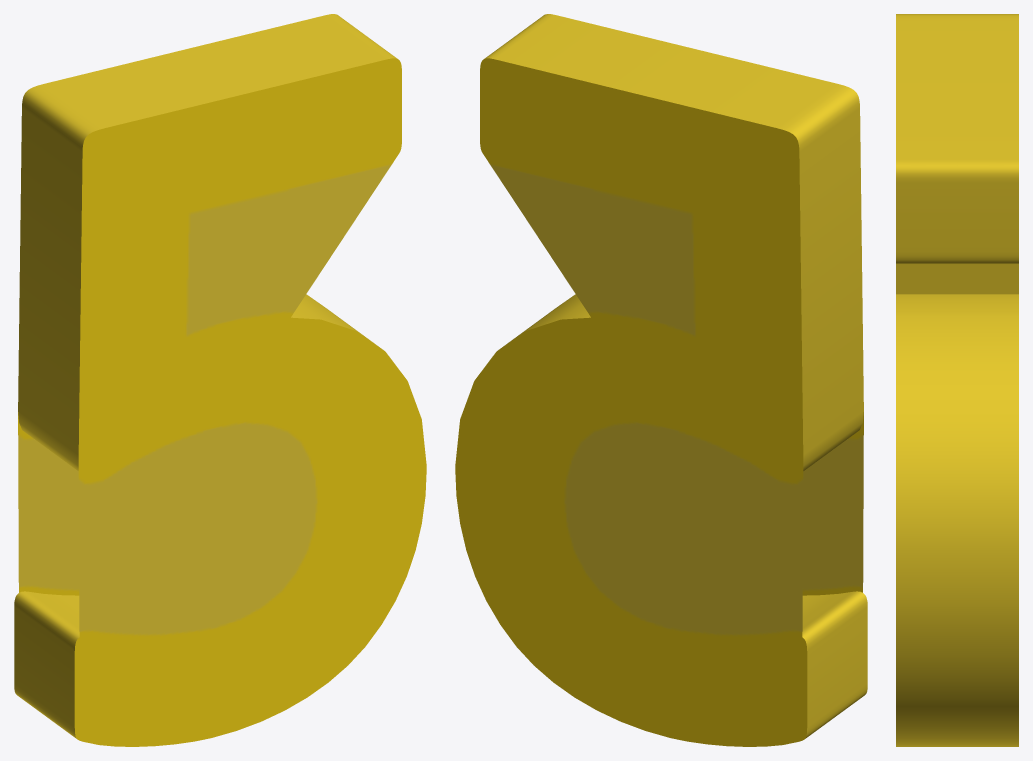
The model's file is number_five.FBX.
3 views of the same model, side by side, from view 1: azimuth 30°, elevation 25°; view 2: azimuth 150°, elevation 25°; view 3: azimuth 270°, elevation 25° (orthographic).
Parts seen in each view (by area): view 1: number_five; view 2: number_five; view 3: number_five.
Boxes of the visible parts, <box> form: number_five: <box>14,14,426,746</box>; number_five: <box>455,14,867,746</box>; number_five: <box>896,14,1018,746</box>.
Bounding box in the file's own units: 22.62 × 39.05 × 6.75.
